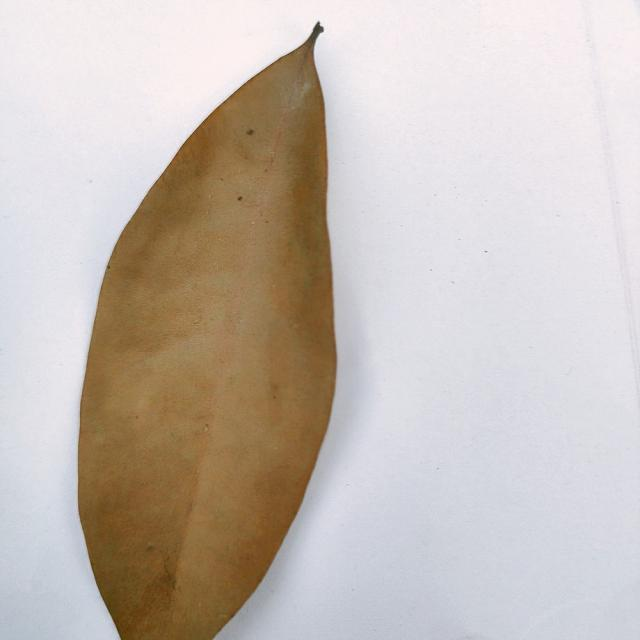Dry_Leaf-Lychee: (76, 27, 339, 639)
